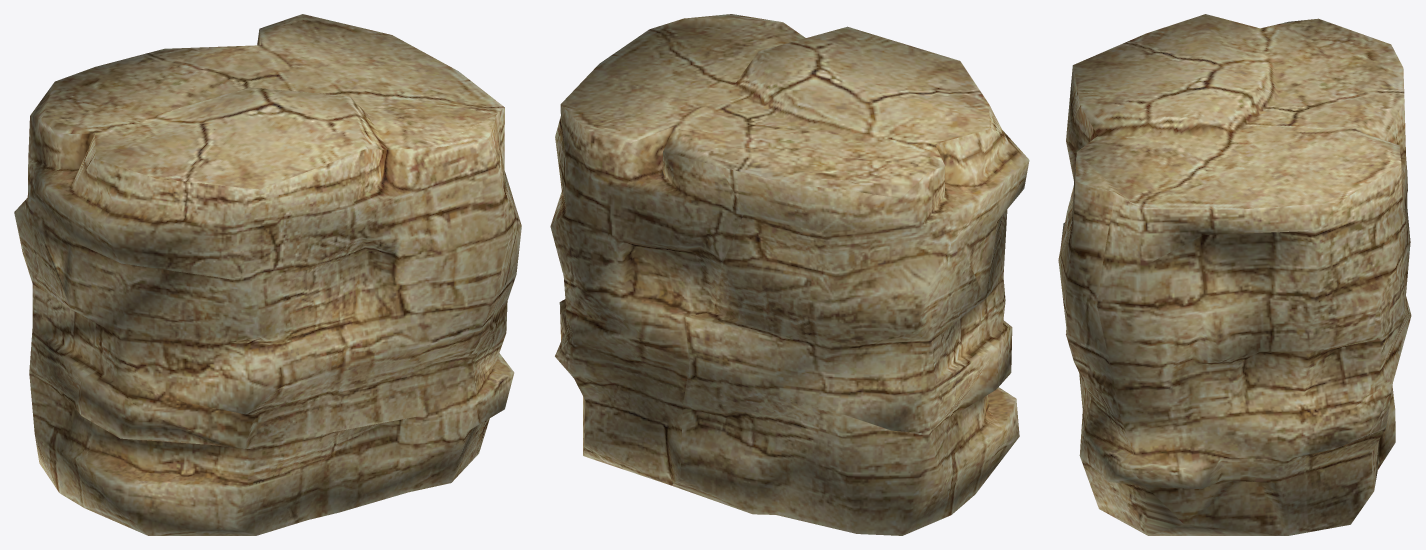
File: S_Rock_Yellow055.FBX
3 renders of one model, left to right at view 1: azimuth 30°, elevation 25°; view 2: azimuth 150°, elevation 25°; view 3: azimuth 270°, elevation 25°, orthographic.
Visible parts, largest first — view 1: S_Rock_Yellow055; view 2: S_Rock_Yellow055; view 3: S_Rock_Yellow055.
Part boxes in pixels (left/top/right/bottom): S_Rock_Yellow055: left=14, top=14, right=521, bottom=535; S_Rock_Yellow055: left=550, top=14, right=1029, bottom=535; S_Rock_Yellow055: left=1058, top=14, right=1411, bottom=535.
Size of the model in its own units: 764 by 580 by 664.
